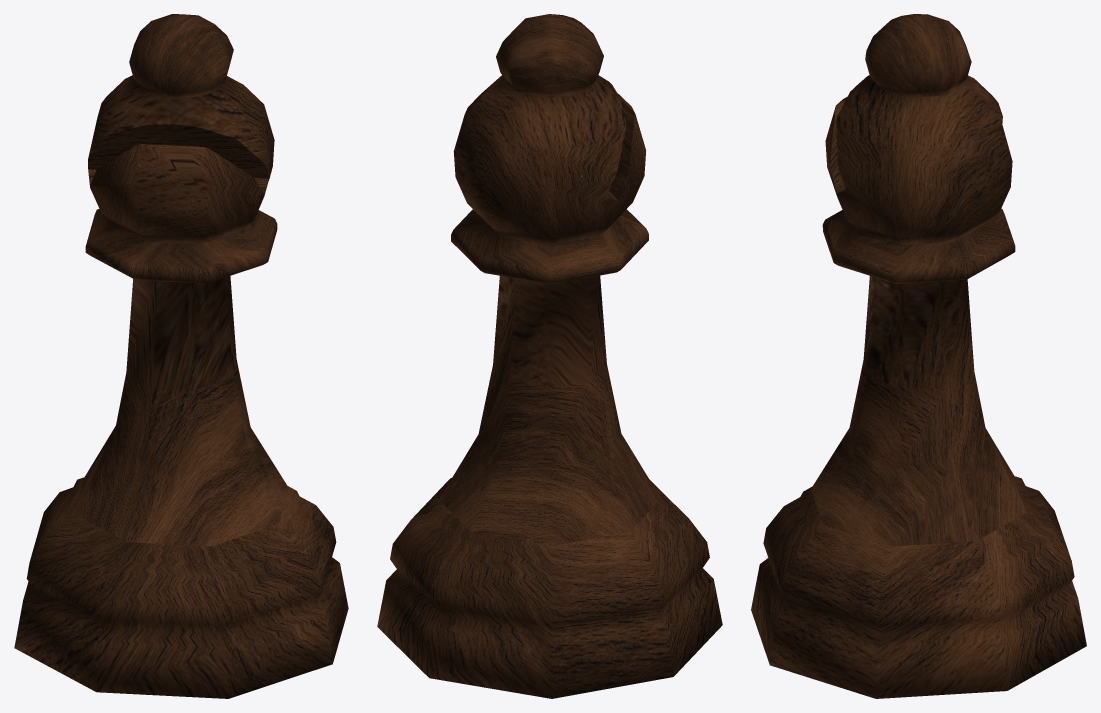
3 renders of one model, left to right at view 1: azimuth 30°, elevation 25°; view 2: azimuth 150°, elevation 25°; view 3: azimuth 270°, elevation 25°, orthographic.
Visible parts, largest first — view 1: BlackBishop.001; view 2: BlackBishop.001; view 3: BlackBishop.001.
Part boxes in pixels (<box>): BlackBishop.001: <box>14,14,348,698</box>; BlackBishop.001: <box>377,14,722,698</box>; BlackBishop.001: <box>751,14,1086,698</box>.
Bounding box in the file's own units: 0.0288 × 0.0576 × 0.0288.
1 material, 1 textured.
